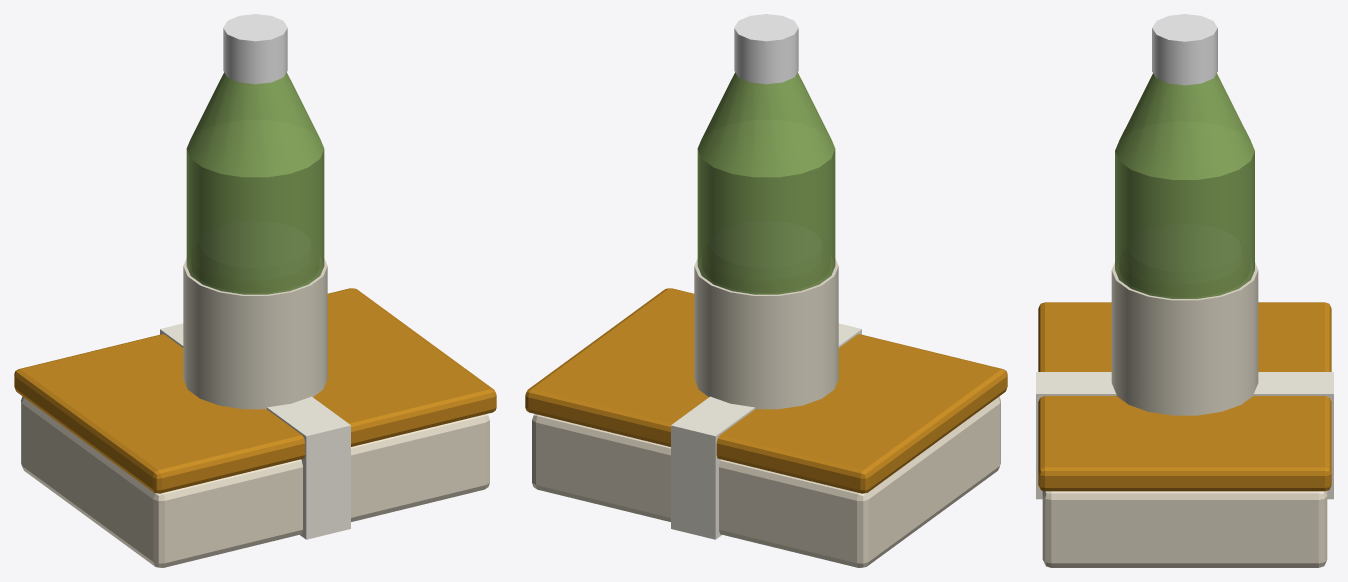
Rendered from food_items.glb.
3 views of the same model, side by side, from view 1: azimuth 30°, elevation 25°; view 2: azimuth 150°, elevation 25°; view 3: azimuth 270°, elevation 25° (orthographic).
Parts seen in each view (by area): view 1: Bento_Chicken, Drink_Tea; view 2: Bento_Chicken, Drink_Tea; view 3: Bento_Chicken, Drink_Tea.
Boxes of the visible parts, bbox=[...] form: Bento_Chicken: bbox=[14, 288, 496, 567]; Drink_Tea: bbox=[183, 14, 327, 409]; Bento_Chicken: bbox=[525, 288, 1007, 567]; Drink_Tea: bbox=[694, 14, 838, 409]; Bento_Chicken: bbox=[1036, 302, 1333, 567]; Drink_Tea: bbox=[1111, 14, 1258, 415].
Bounding box in the file's own units: 0.184 × 0.232 × 0.136.
